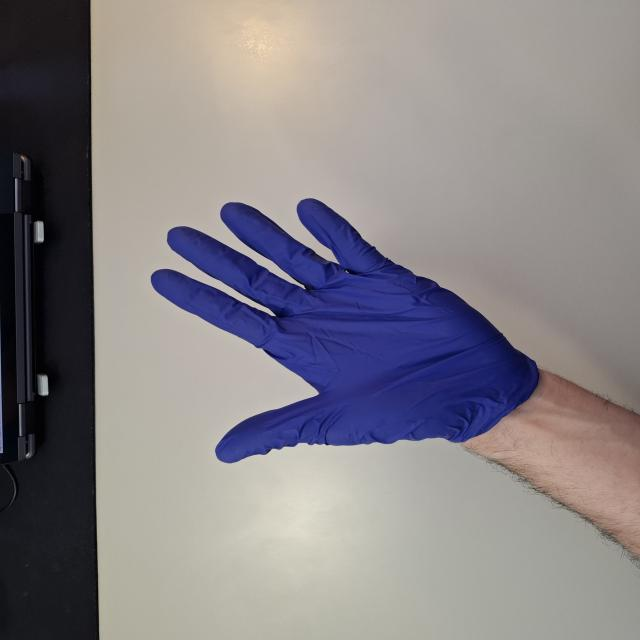glove_on: (146, 195, 545, 466)
